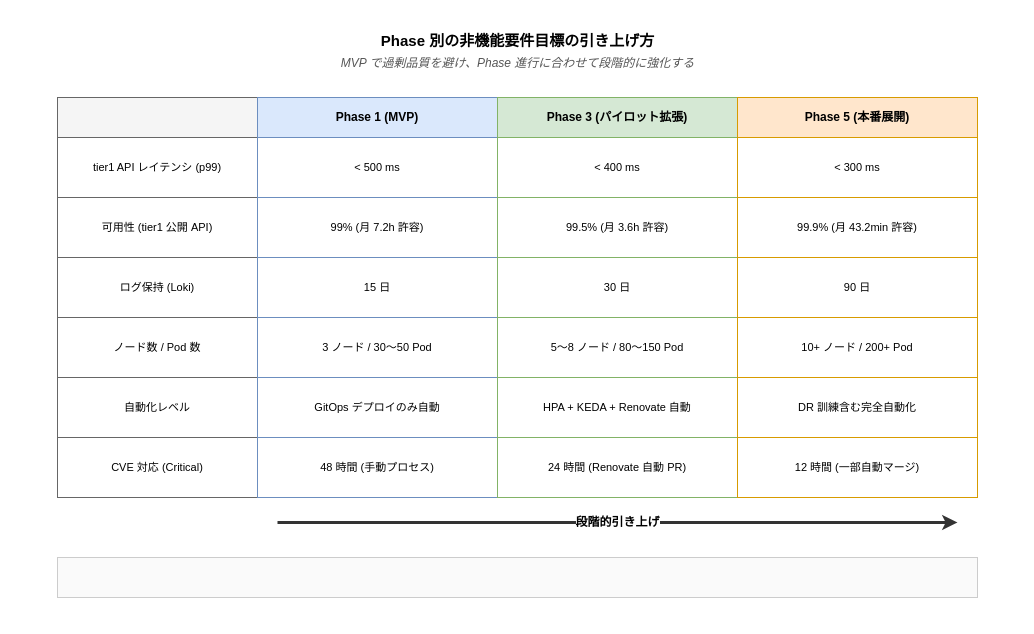
Some shapes in this 1034 by 634 pixel diagram are drawn without their labels. The centre of each missing label's shape, as x and y in pixels:
"Phase 1 はパイロット運用を成立させるラインを狙い、Phase 3 でスコープ拡大、Phase 5 で全社ロールアウト相当の品質に到達する。" goes at (x=517, y=577).
"カテゴリ" goes at (x=157, y=117).
